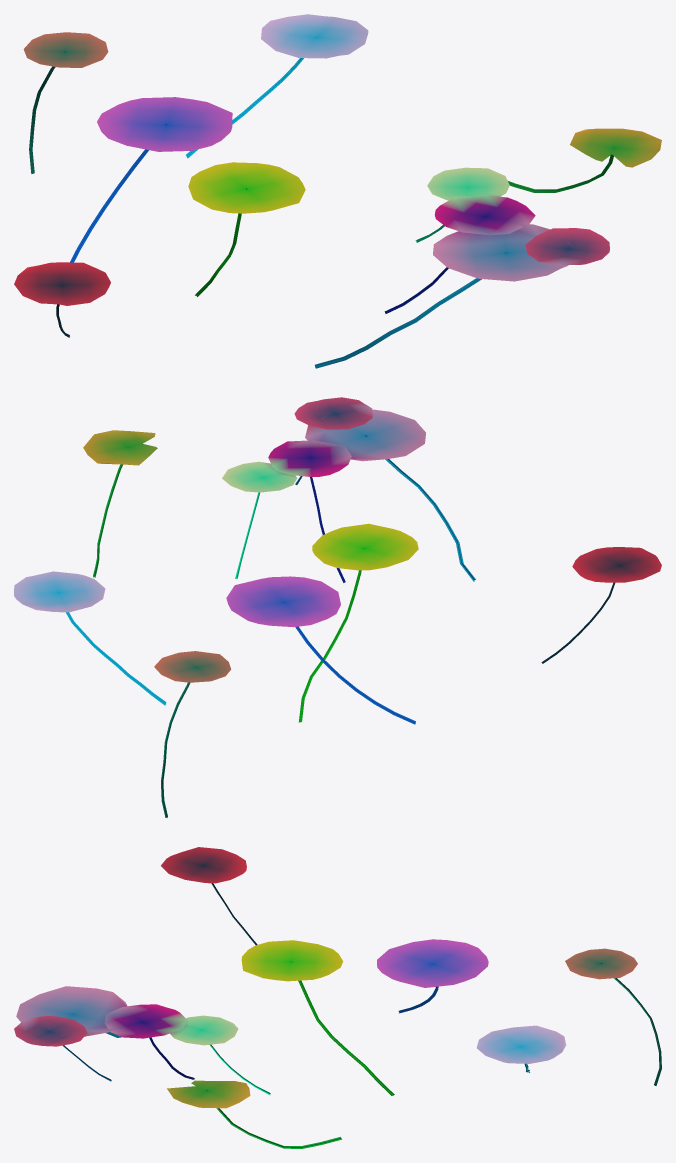
The model's file is Rembrandt_Water_Lily_uc2kajgia_High_uc2kajgia_VarA_LOD0.fbx.
The picture shows the model from 3 angles, top to bottom: view 1: azimuth 30°, elevation 25°; view 2: azimuth 150°, elevation 25°; view 3: azimuth 270°, elevation 25°; orthographic projection. The views are drawn at different scales.
Visible parts, largest first — view 1: _4c7a_VarA_LOD0; view 2: _4c7a_VarA_LOD0; view 3: _4c7a_VarA_LOD0.
Boxes of the visible parts, <box> form: _4c7a_VarA_LOD0: <box>14,14,661,368</box>; _4c7a_VarA_LOD0: <box>14,397,661,817</box>; _4c7a_VarA_LOD0: <box>14,847,661,1148</box>.
Bounding box in the file's own units: 120 × 28.65 × 126.
